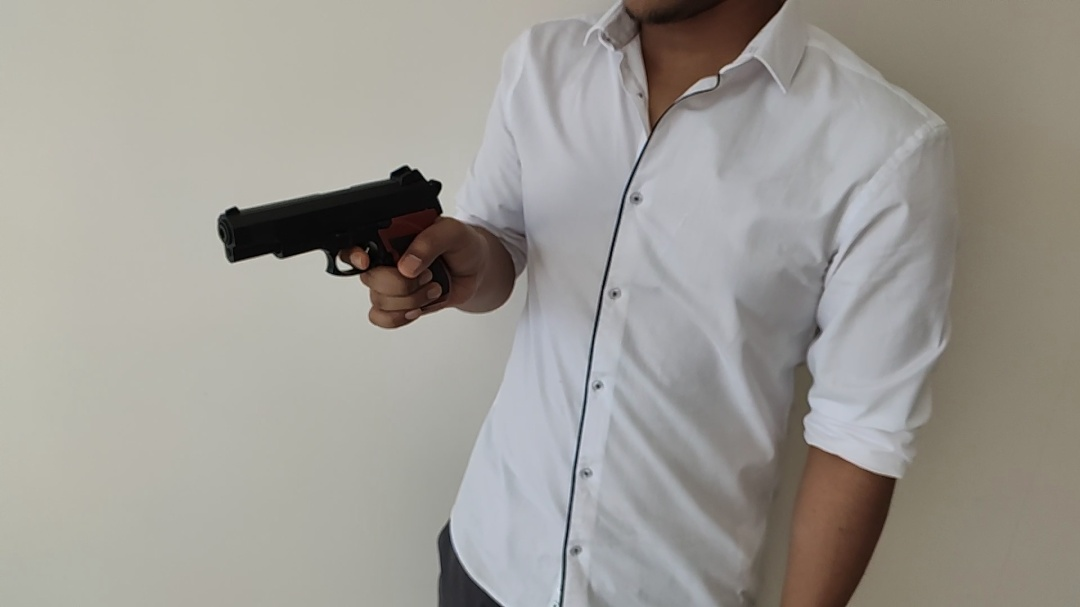gun: (216, 165, 447, 275)
